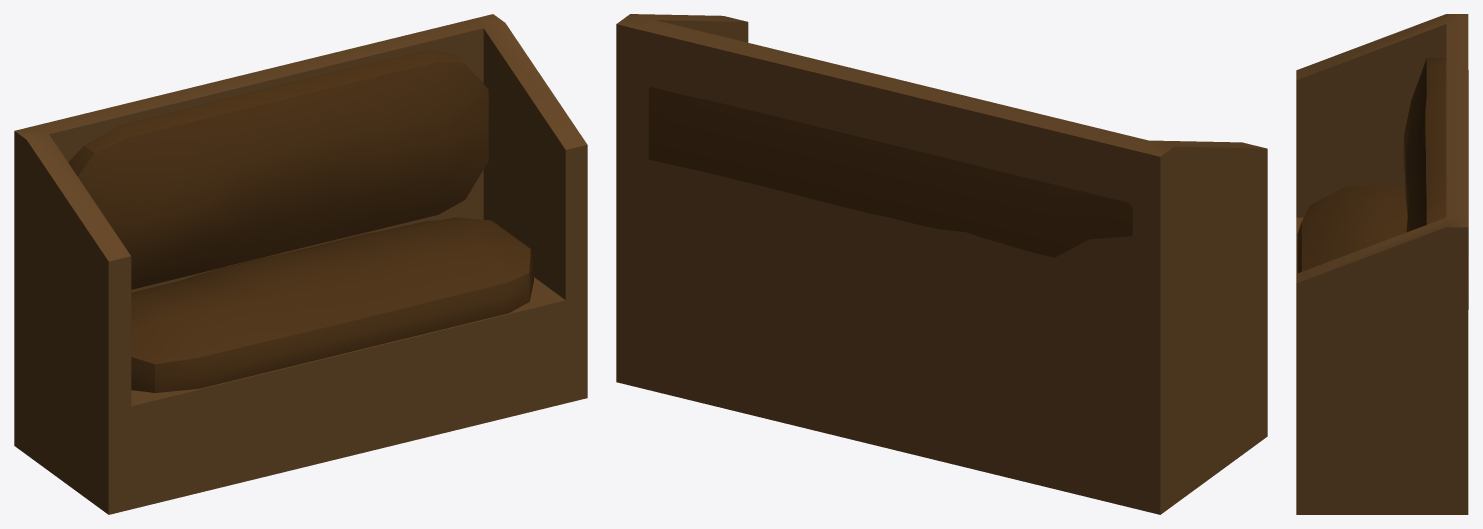
Rendered from Couch.fbx.
3 renders of one model, left to right at view 1: azimuth 30°, elevation 25°; view 2: azimuth 150°, elevation 25°; view 3: azimuth 270°, elevation 25°, orthographic. The views are drawn at different scales.
Parts seen in each view (by area): view 1: pCube4; view 2: pCube4; view 3: pCube4.
Part boxes in pixels (x1=…): pCube4: x1=14, y1=14, x2=587, y2=514; pCube4: x1=616, y1=14, x2=1267, y2=514; pCube4: x1=1296, y1=14, x2=1468, y2=514.
Bounding box in the file's own units: 50.36 × 31.68 × 17.21.
